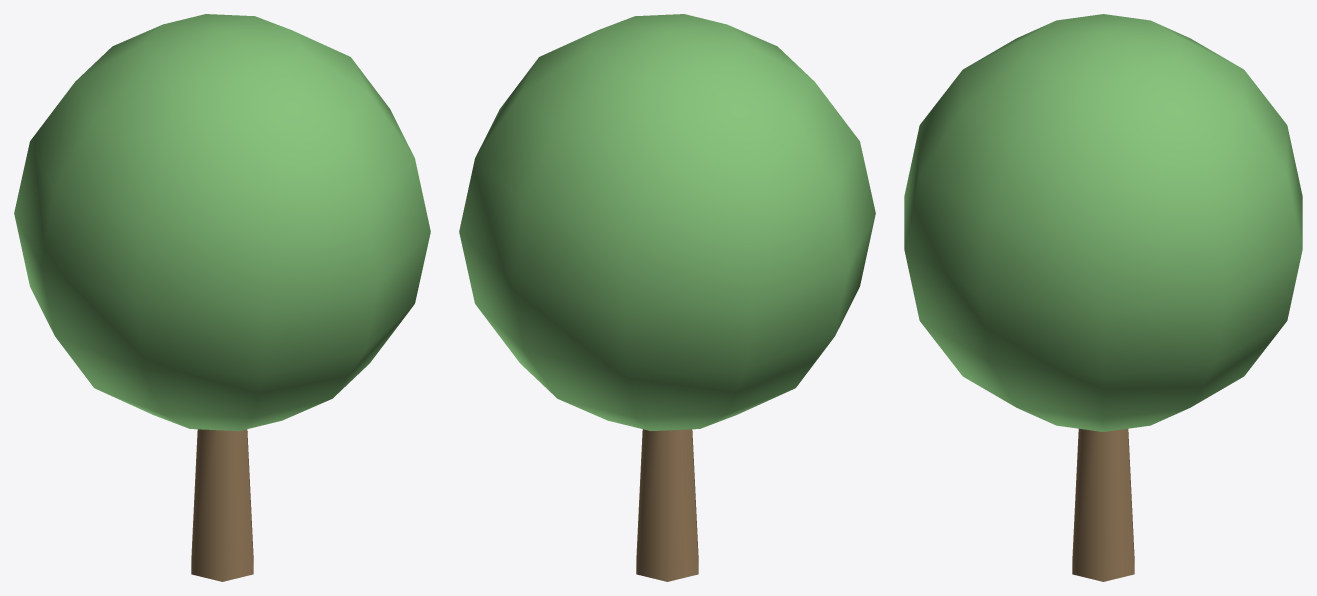
File: tree-round.glb
3 renders of one model, left to right at view 1: azimuth 30°, elevation 25°; view 2: azimuth 150°, elevation 25°; view 3: azimuth 270°, elevation 25°, orthographic.
Bounding box in the file's own units: 0.64 × 0.9 × 0.6087.
